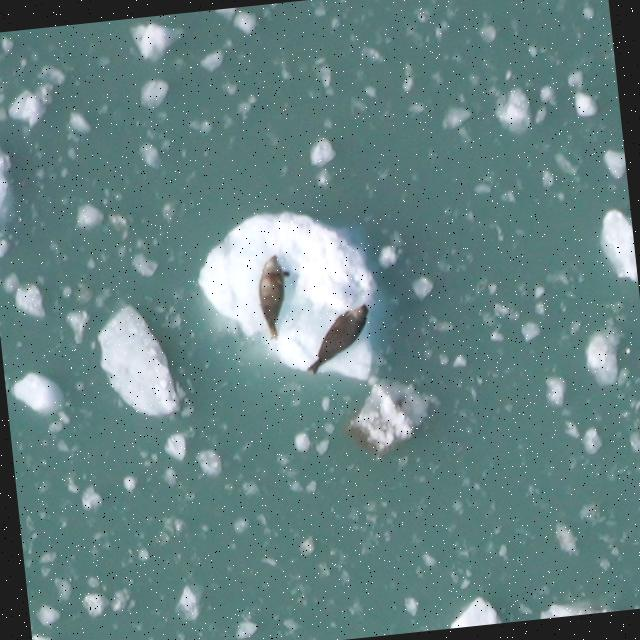seal: (295, 300, 379, 378), (252, 249, 301, 344)
